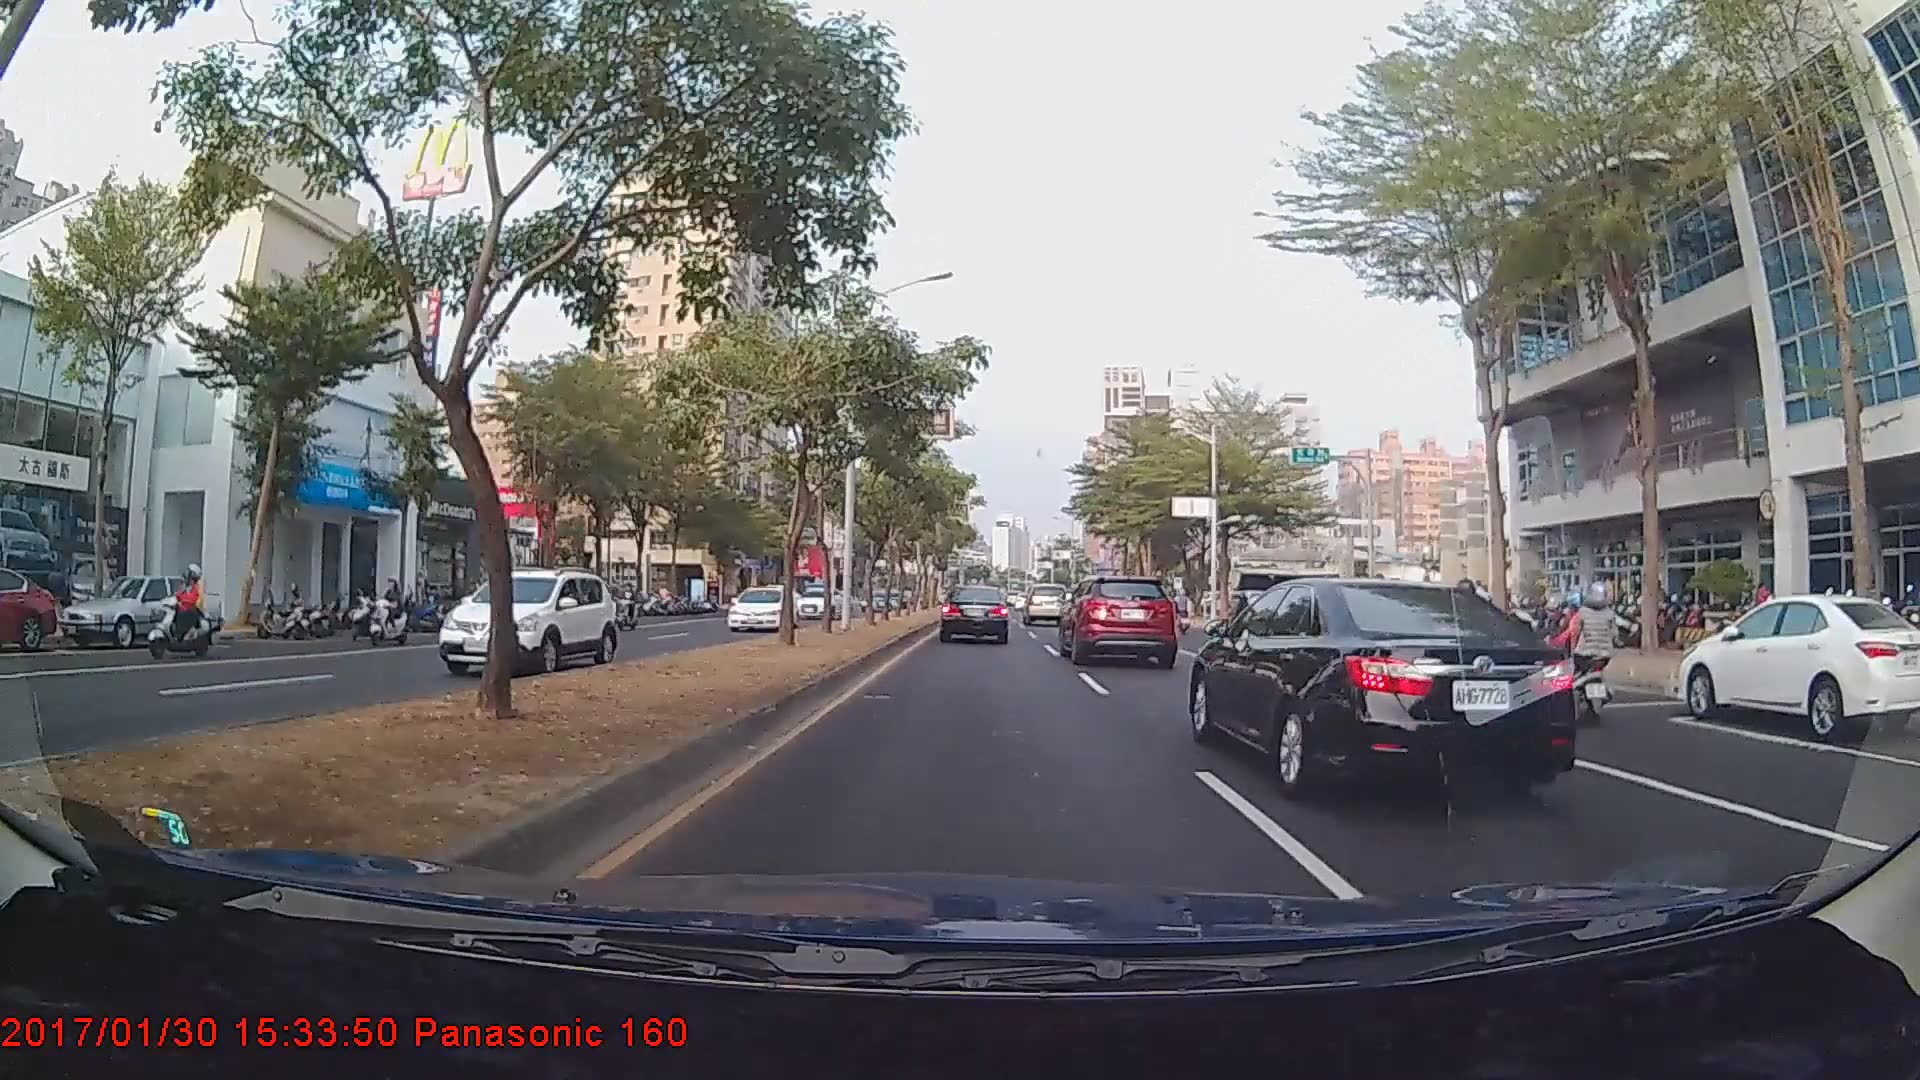rider: (1518, 584, 1602, 720), (133, 562, 216, 660), (364, 570, 418, 650)
vehicle: (1192, 566, 1563, 798), (1675, 590, 1920, 736), (430, 564, 620, 678), (55, 574, 223, 651), (1062, 574, 1178, 666), (0, 564, 56, 651), (939, 582, 1011, 645), (725, 586, 796, 632), (788, 587, 847, 620), (1022, 582, 1064, 625)
